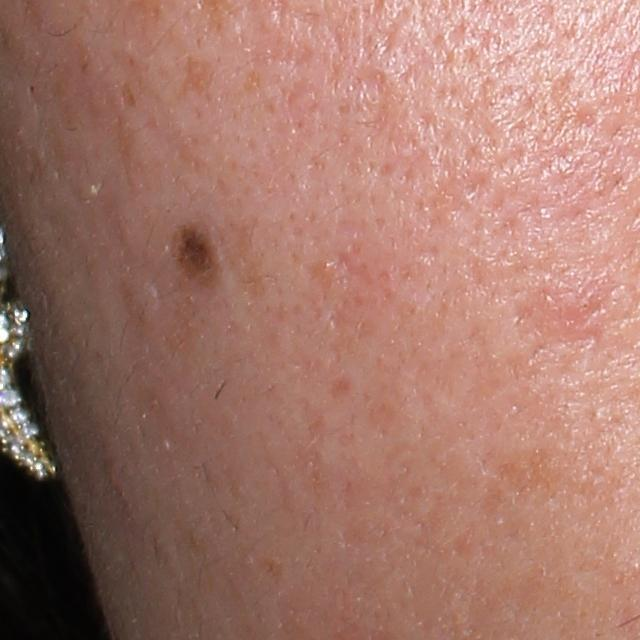comedo: (319, 256, 345, 277)
nevus: (164, 219, 223, 281)
